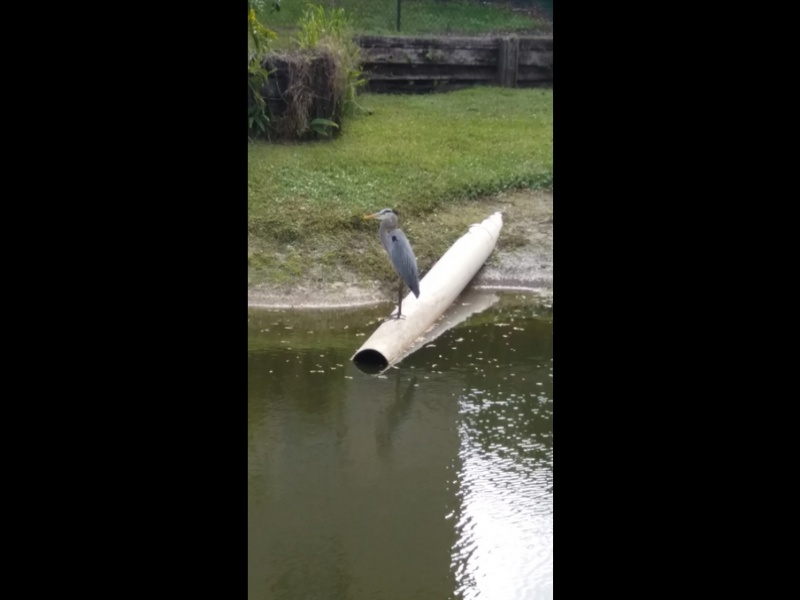heron: (362, 205, 422, 320)
